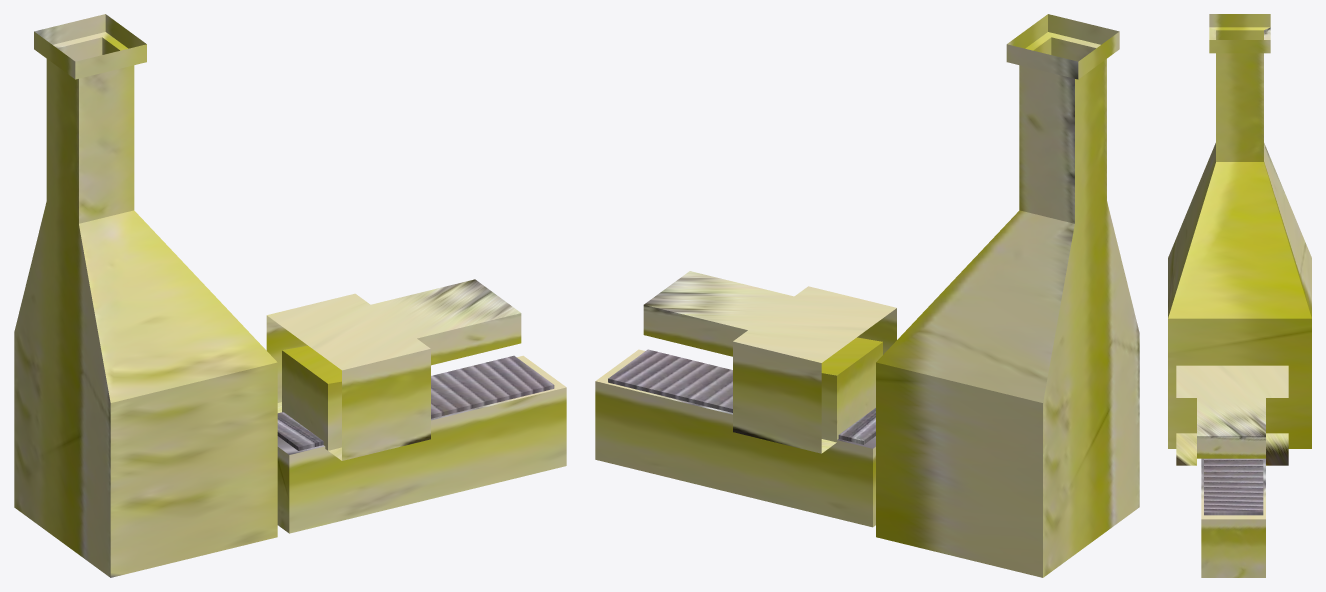
The model's file is krematorium.glb.
3 renders of one model, left to right at view 1: azimuth 30°, elevation 25°; view 2: azimuth 150°, elevation 25°; view 3: azimuth 270°, elevation 25°, orthographic. The views are drawn at different scales.
Parts seen in each view (by area): view 1: Cube.017, Cube.006; view 2: Cube.017, Cube.006; view 3: Cube.017, Cube.006.
Part boxes in pixels (x1=…): Cube.017: x1=14, y1=14, x2=277, y2=577; Cube.006: x1=266, y1=279, x2=566, y2=533; Cube.017: x1=876, y1=14, x2=1139, y2=577; Cube.006: x1=595, y1=271, x2=896, y2=527; Cube.017: x1=1168, y1=14, x2=1311, y2=448; Cube.006: x1=1176, y1=365, x2=1288, y2=577.
Size of the model in its own units: 30.38 by 31 by 10.44.
Materials: 1 (1 with a texture image).
